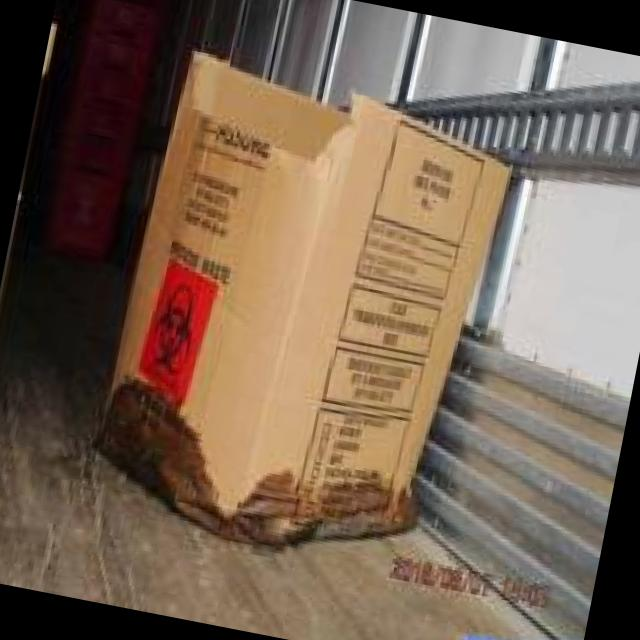box: (33, 116, 622, 579)
